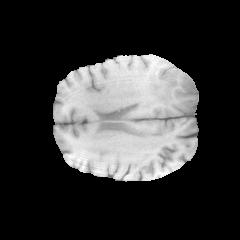glioma: (127, 62, 196, 116)
